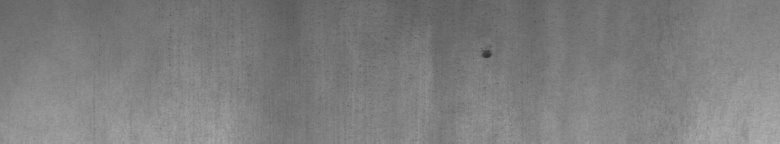fi: (473, 40, 495, 66)
